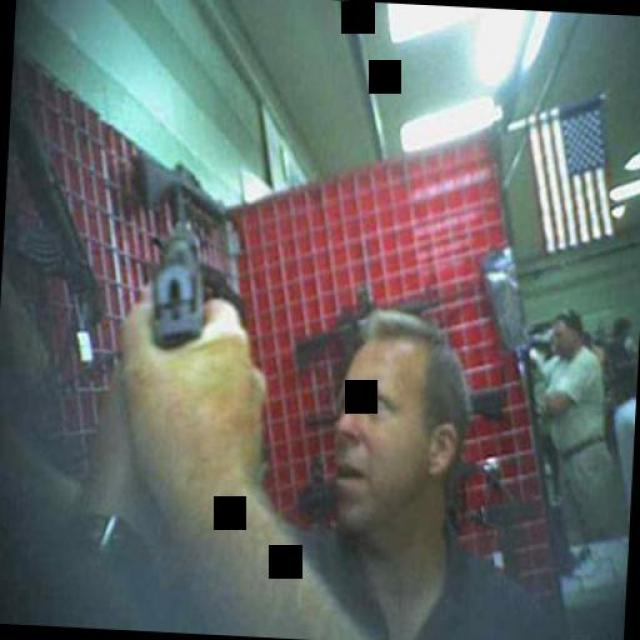gun: (130, 211, 220, 351)
